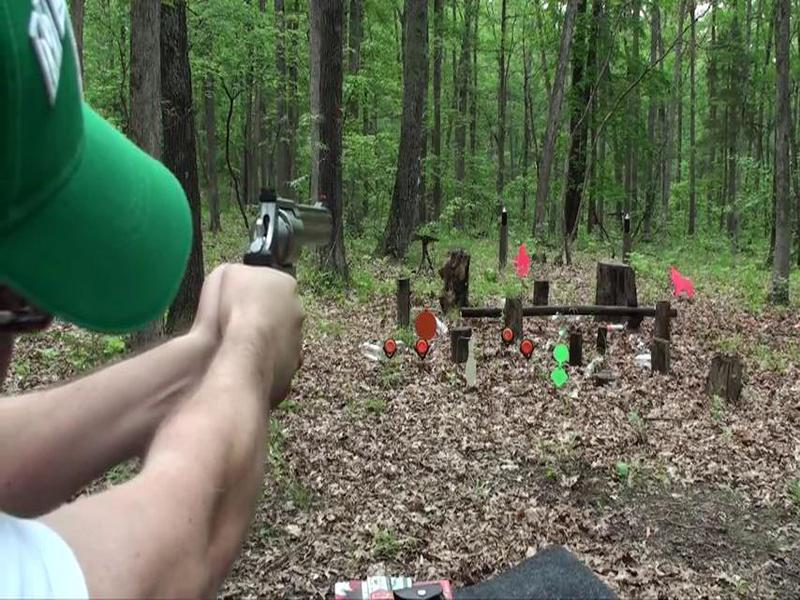Revolver: (224, 179, 339, 312)
